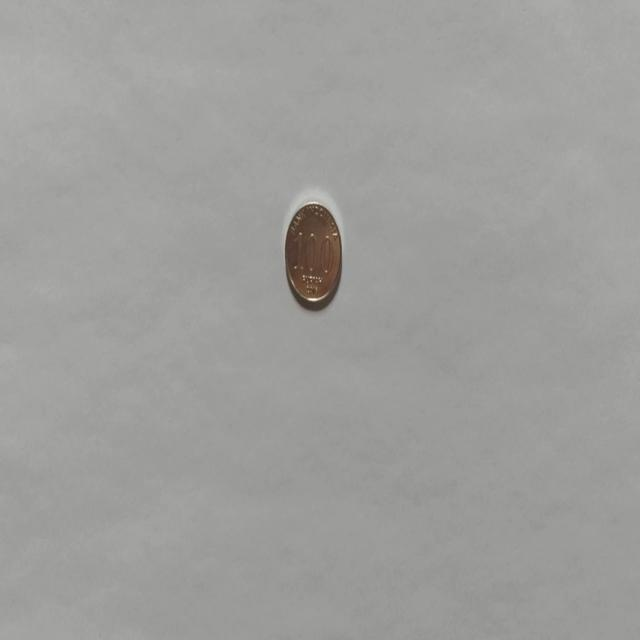seratus rupiah: (284, 199, 342, 310)
